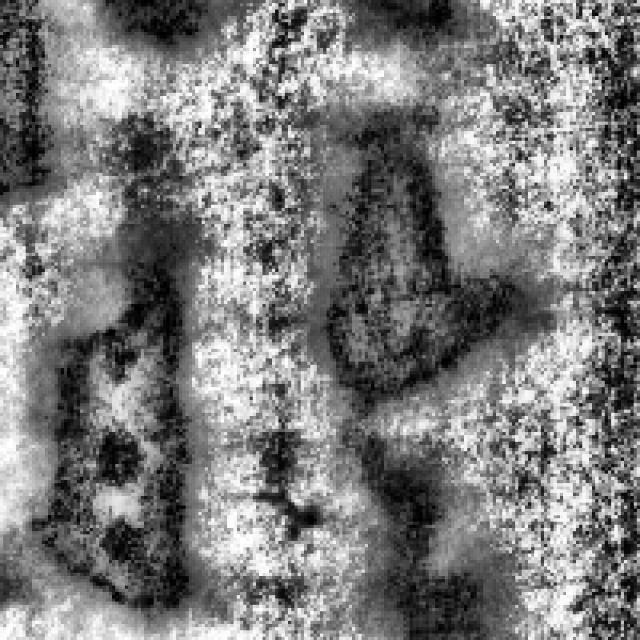Scratches: (310, 93, 544, 397), (28, 228, 202, 614), (352, 426, 493, 636), (0, 0, 70, 208), (90, 0, 220, 58), (355, 0, 486, 54)
